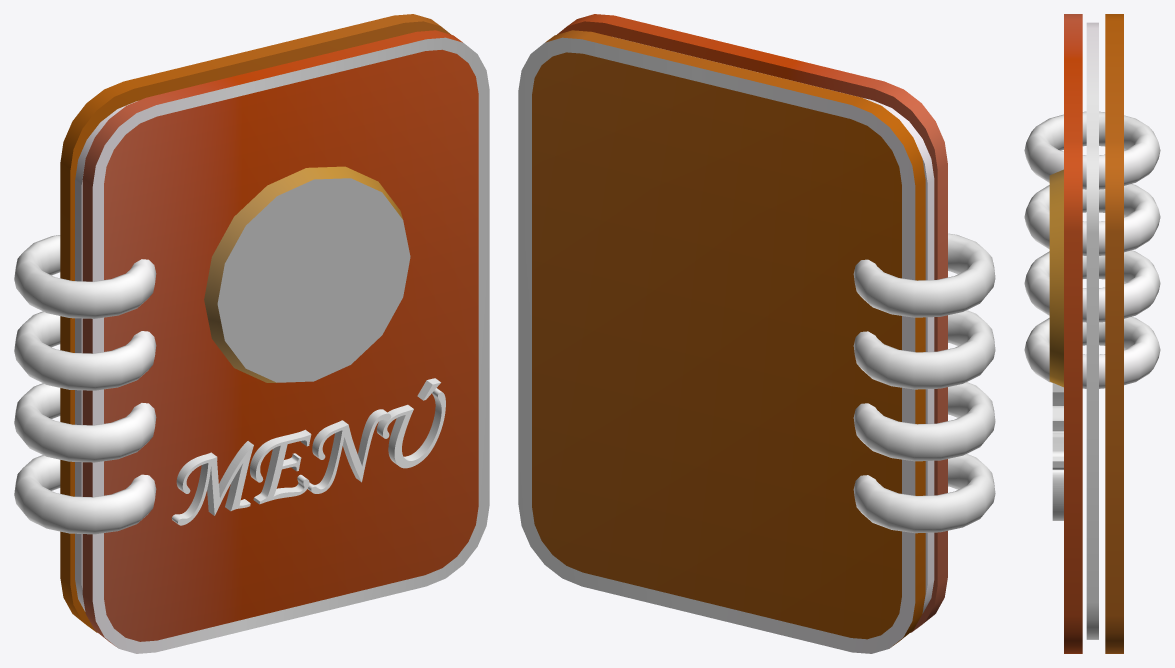
Rendered from MENU.fbx.
3 views of the same model, side by side, from view 1: azimuth 30°, elevation 25°; view 2: azimuth 150°, elevation 25°; view 3: azimuth 270°, elevation 25° (orthographic). The views are drawn at different scales.
Visible parts, largest first — view 1: FRONTAL, Cylinder.001, Torus.004, Cube.004, Cube.003; view 2: Cube.004, Torus.004, FRONTAL, Cube.003; view 3: FRONTAL, Torus.004, Cube.004, Cube.003.
Part boxes in pixels (left/top/right/bottom): FRONTAL: left=82, top=30, right=489, bottom=653; Cylinder.001: left=217, top=178, right=410, bottom=382; Torus.004: left=14, top=235, right=156, bottom=534; Cube.004: left=60, top=14, right=451, bottom=632; Cube.003: left=75, top=101, right=137, bottom=611; Cube.004: left=518, top=30, right=925, bottom=653; Torus.004: left=853, top=233, right=995, bottom=533; FRONTAL: left=557, top=14, right=947, bottom=632; Cube.003: left=757, top=72, right=934, bottom=613; FRONTAL: left=1049, top=14, right=1082, bottom=653; Torus.004: left=1024, top=111, right=1160, bottom=388; Cube.004: left=1105, top=14, right=1123, bottom=653; Cube.003: left=1086, top=22, right=1098, bottom=639.
Size of the model in its own units: 27.09 by 31.44 by 7.66.
